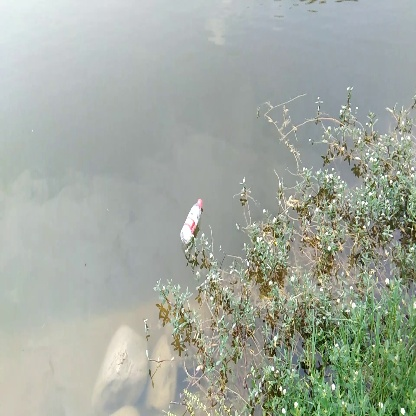bottle: (178, 197, 208, 248)
